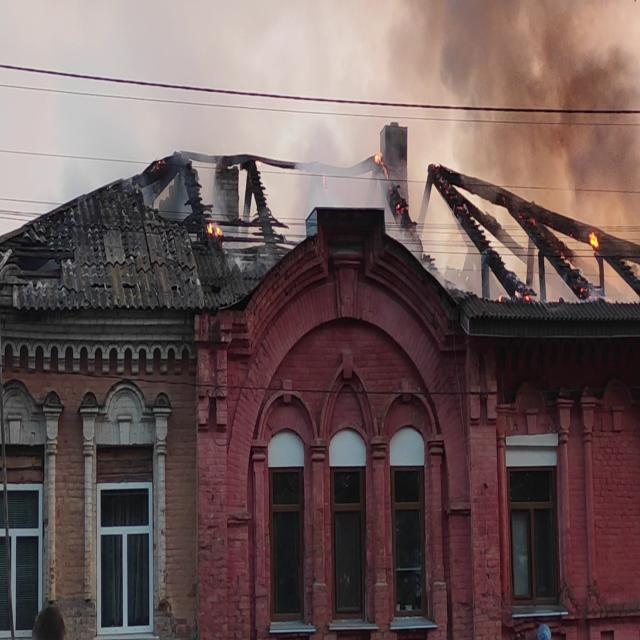fire: (583, 220, 619, 273), (202, 210, 234, 256), (372, 147, 397, 205)
smoke: (444, 0, 640, 222), (320, 134, 368, 210)
